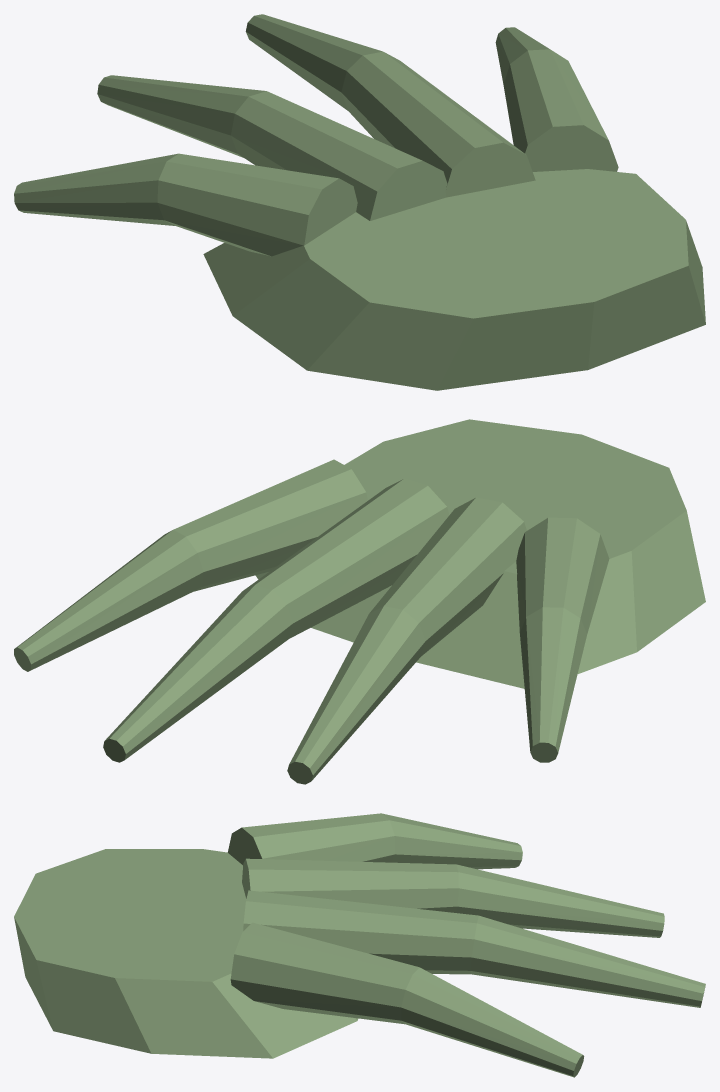
Rendered from frog_foot_fr_01.glb.
3 views of the same model, one above another, from view 1: azimuth 30°, elevation 25°; view 2: azimuth 150°, elevation 25°; view 3: azimuth 270°, elevation 25° (orthographic). The views are drawn at different scales.
Parts seen in each view (by area): view 1: FrontRPalm, FrontRToe0, FrontRToe1, FrontRToe2, FrontRToe3; view 2: FrontRPalm, FrontRToe2, FrontRToe3, FrontRToe1, FrontRToe0; view 3: FrontRPalm, FrontRToe2, FrontRToe3, FrontRToe1, FrontRToe0.
Boxes of the visible parts, left/top/right/bottom form: FrontRPalm: left=203, top=169, right=705, bottom=390; FrontRToe0: left=14, top=153, right=357, bottom=256; FrontRToe1: left=97, top=75, right=447, bottom=220; FrontRToe2: left=245, top=14, right=535, bottom=197; FrontRToe3: left=495, top=27, right=618, bottom=171; FrontRPalm: left=255, top=419, right=705, bottom=688; FrontRToe2: left=103, top=478, right=449, bottom=762; FrontRToe3: left=14, top=459, right=367, bottom=671; FrontRToe1: left=287, top=497, right=526, bottom=784; FrontRToe0: left=516, top=517, right=609, bottom=762; FrontRPalm: left=14, top=849, right=358, bottom=1058; FrontRToe2: left=243, top=890, right=705, bottom=1007; FrontRToe3: left=230, top=922, right=584, bottom=1077; FrontRToe1: left=242, top=858, right=664, bottom=937; FrontRToe0: left=227, top=813, right=522, bottom=869.
Size of the model in its own units: 0.1254 by 0.0255 by 0.1666.
